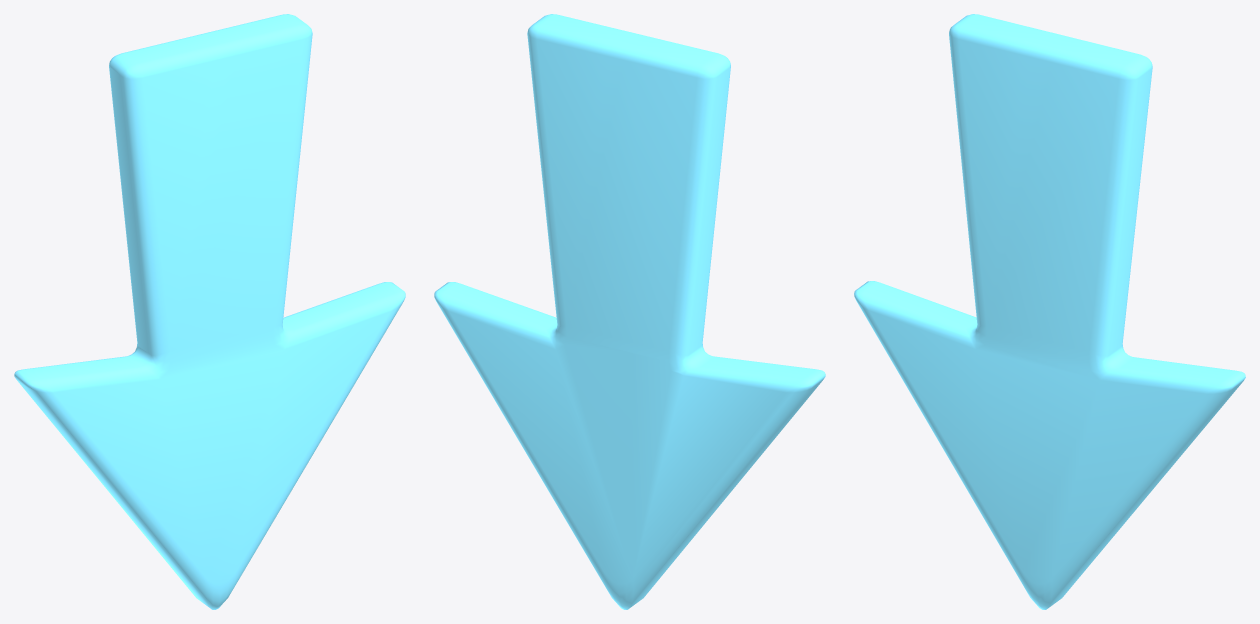
Rendered from arrow-animation.glb.
The picture shows the model from 3 angles, left to right: view 1: azimuth 30°, elevation 25°; view 2: azimuth 150°, elevation 25°; view 3: azimuth 330°, elevation 25°; orthographic projection.
Visible parts, largest first — view 1: Arrow; view 2: Arrow; view 3: Arrow.
Boxes of the visible parts, x1=… form: Arrow: x1=14, y1=14, x2=405, y2=609; Arrow: x1=434, y1=14, x2=825, y2=609; Arrow: x1=854, y1=14, x2=1245, y2=609.
Bounding box in the file's own units: 2.11 × 3.01 × 0.2343.
